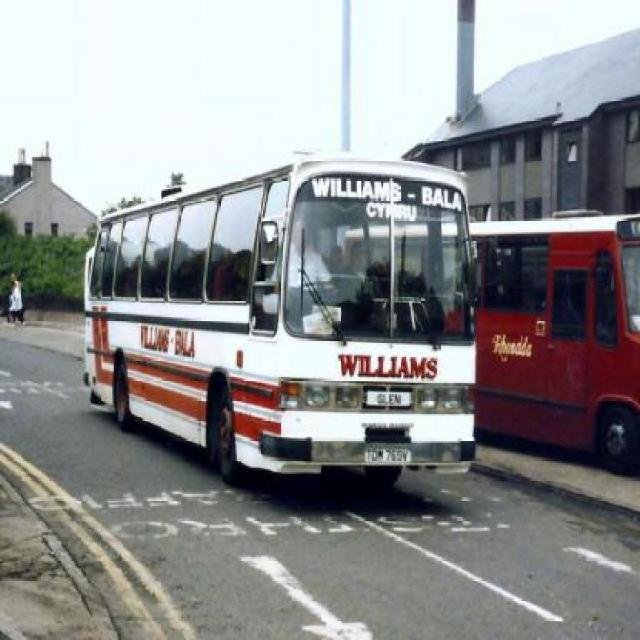Person: (287, 218, 341, 324), (339, 238, 376, 300), (219, 237, 247, 300), (92, 242, 113, 296), (6, 273, 26, 327), (171, 258, 194, 297), (325, 242, 347, 275), (12, 274, 21, 298)
